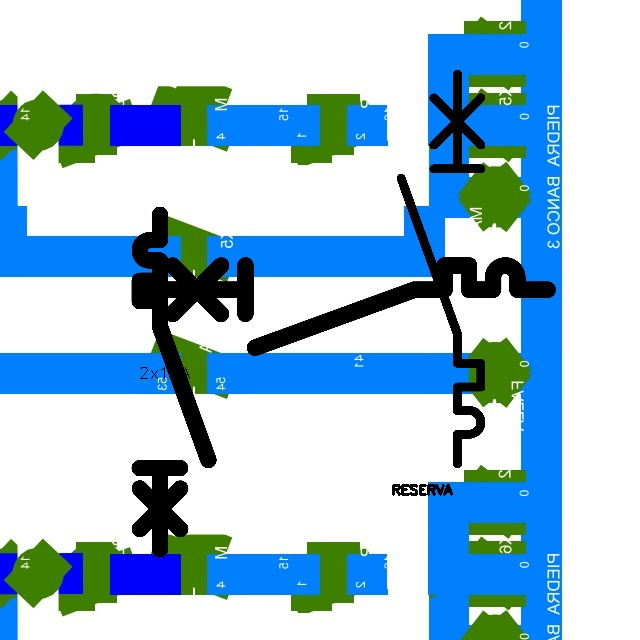interruptor_termomagnetico: (138, 255, 558, 358), (391, 64, 491, 474), (131, 206, 217, 558)
